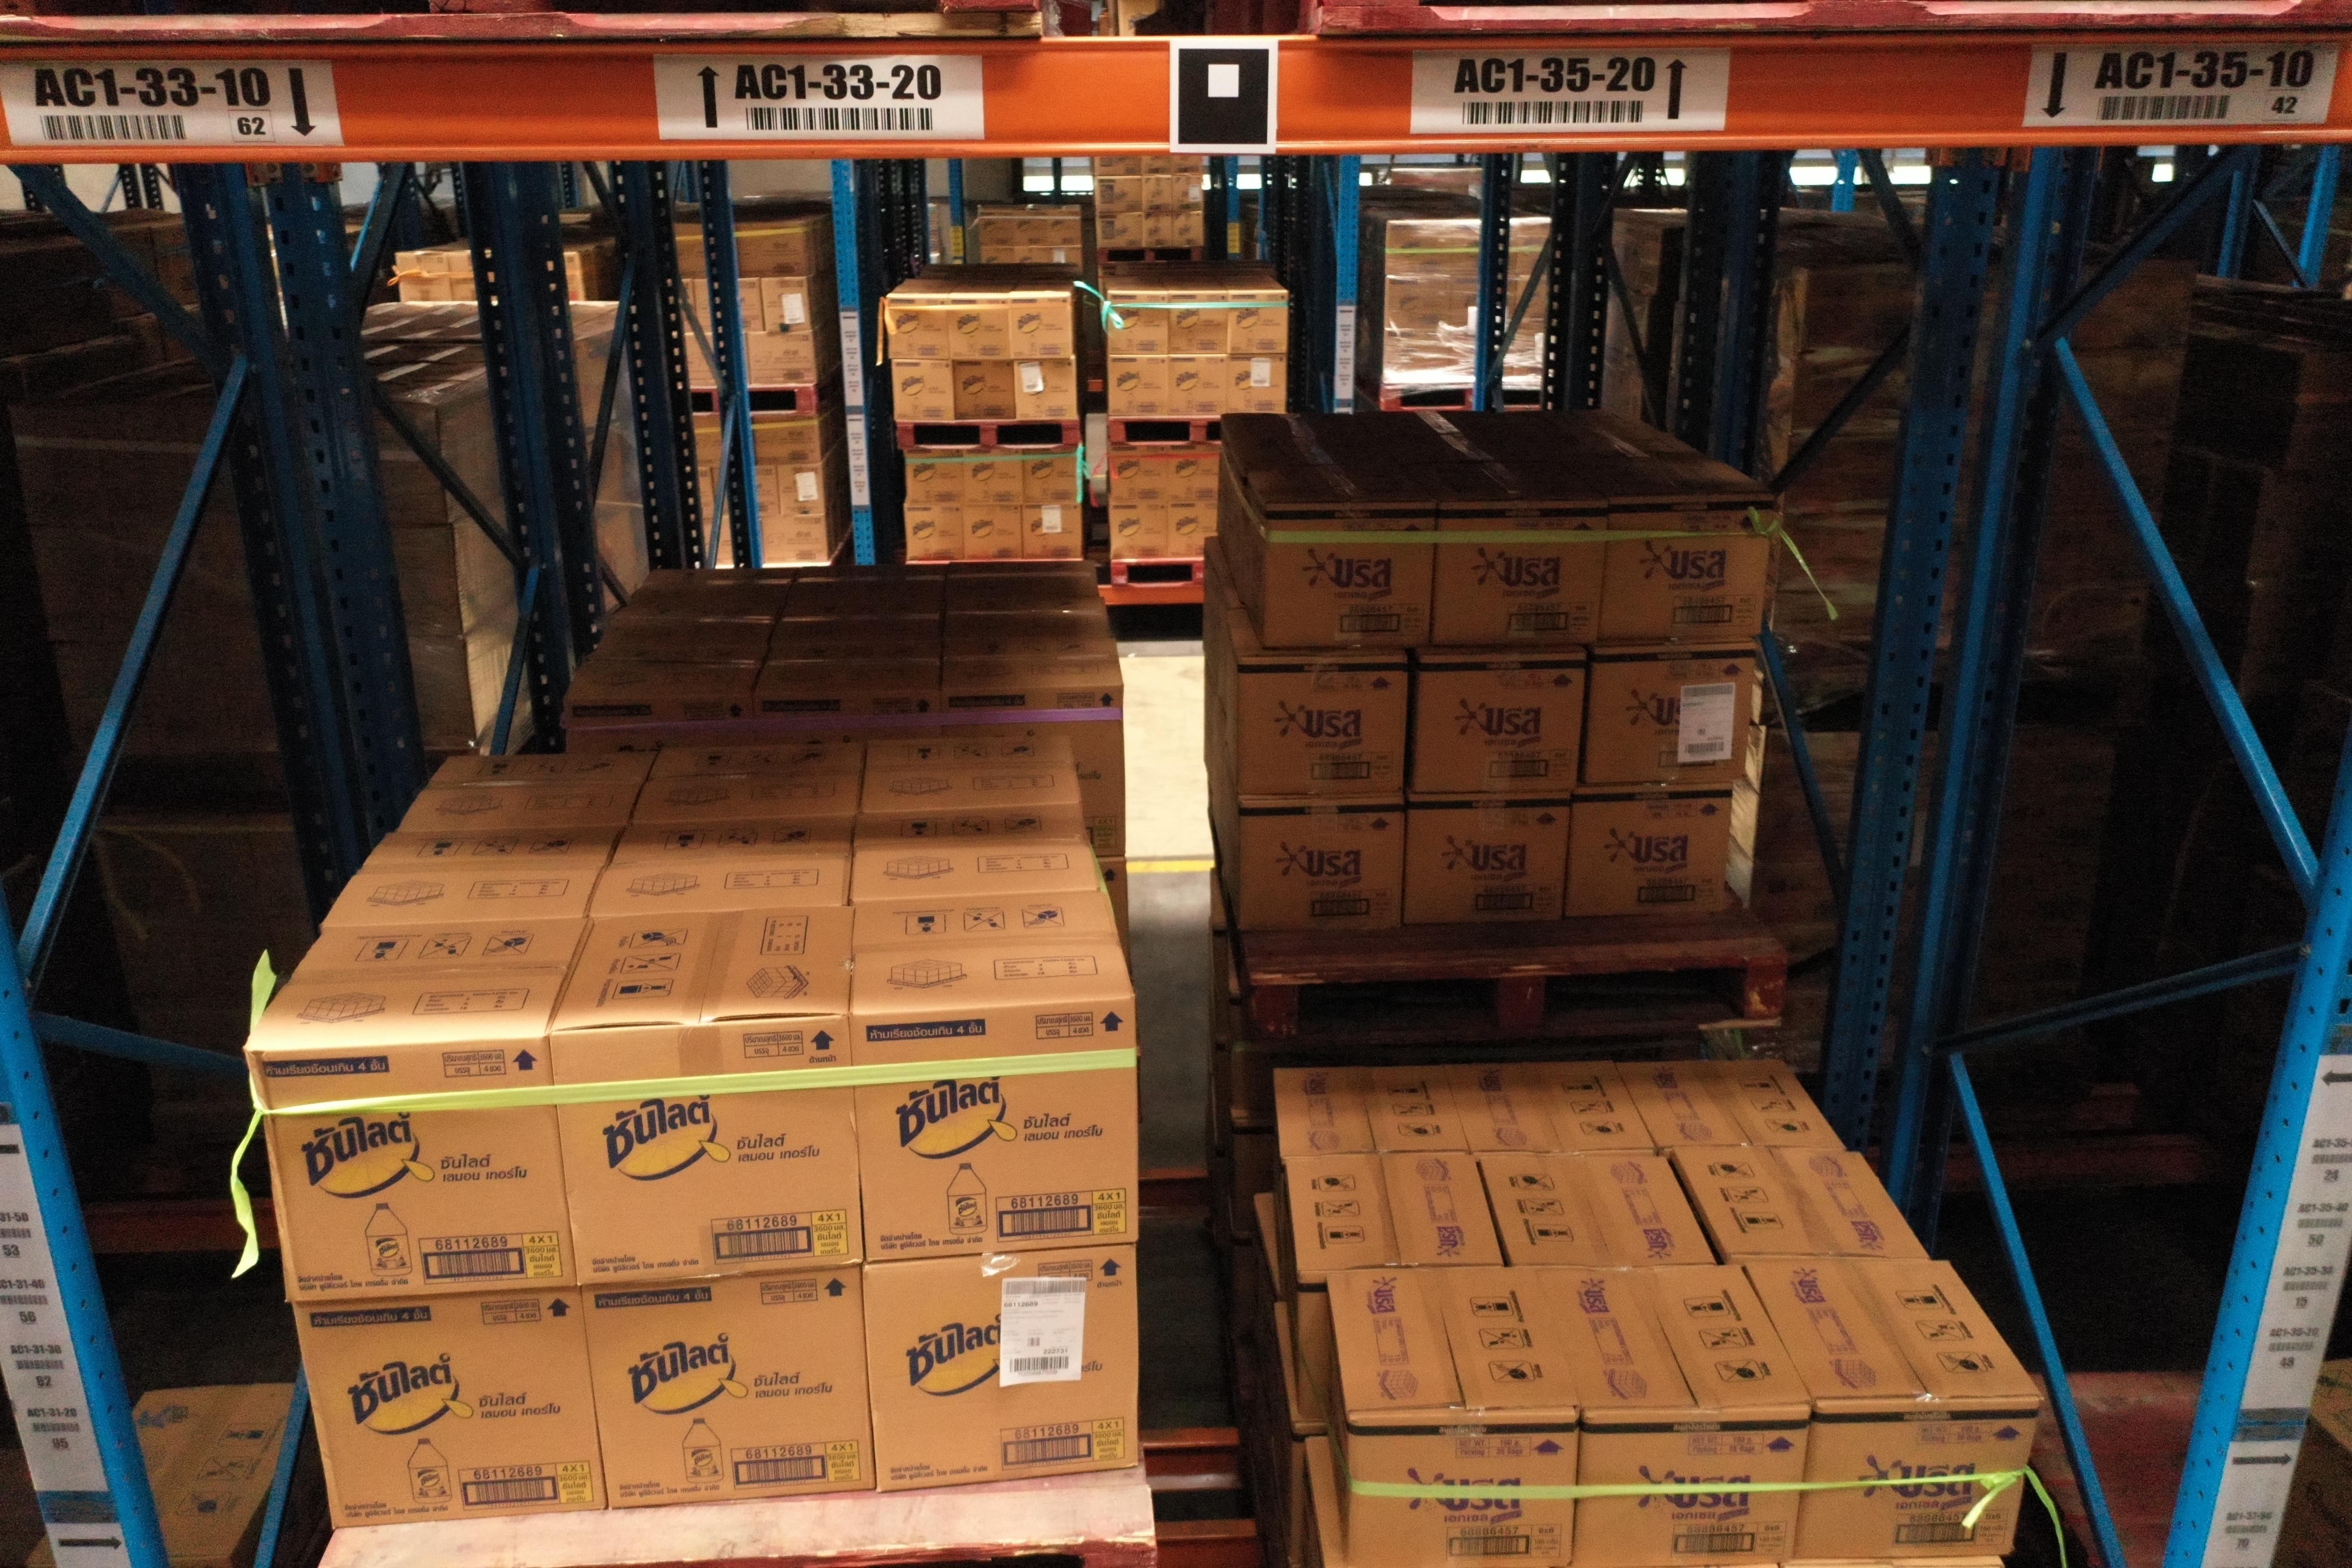-: (247, 1034, 579, 1305), (553, 1008, 868, 1286), (285, 1284, 607, 1535), (854, 990, 1139, 1263), (576, 1267, 875, 1507), (868, 1239, 1139, 1489), (1795, 1396, 2044, 1561), (1575, 1398, 1811, 1566), (1342, 1407, 1582, 1568)
box: (1591, 499, 1780, 660), (1424, 500, 1610, 658), (1237, 656, 1414, 805), (1417, 656, 1589, 805), (1262, 507, 1433, 654), (1584, 654, 1753, 798), (1402, 798, 1582, 931), (1568, 789, 1729, 931), (1241, 805, 1407, 936)
